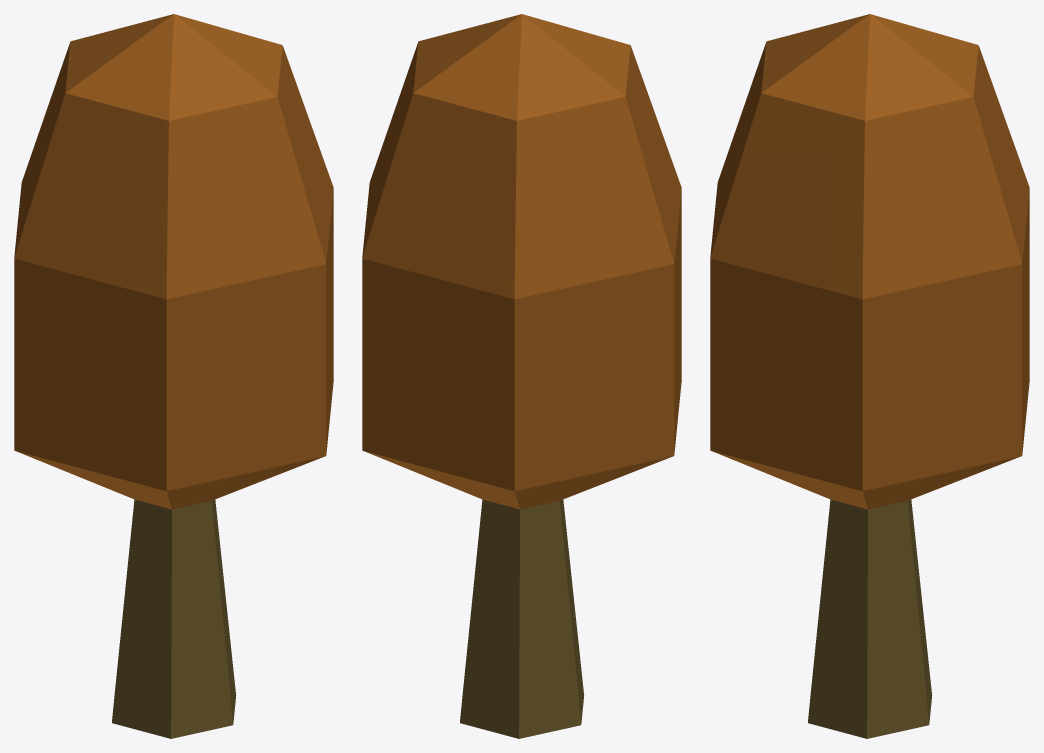
Rendered from Vegetation_Tree_Common_Autumn_02.fbx.
3 renders of one model, left to right at view 1: azimuth 30°, elevation 25°; view 2: azimuth 150°, elevation 25°; view 3: azimuth 270°, elevation 25°, orthographic.
Parts seen in each view (by area): view 1: Vegetation_Tree_Common_Autumn_02; view 2: Vegetation_Tree_Common_Autumn_02; view 3: Vegetation_Tree_Common_Autumn_02.
Part boxes in pixels (x1,y1,x2,y2): Vegetation_Tree_Common_Autumn_02: (14,14,333,738); Vegetation_Tree_Common_Autumn_02: (362,14,681,738); Vegetation_Tree_Common_Autumn_02: (710,14,1029,738).
Size of the model in its own units: 1488 by 3167 by 1319.
